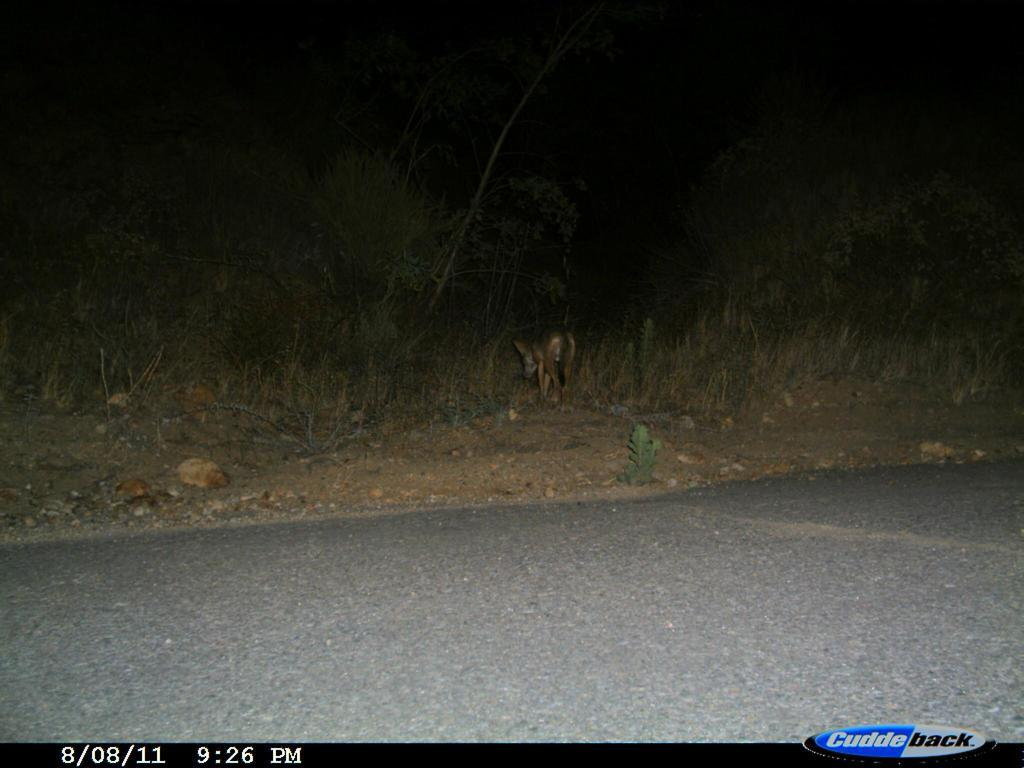coyote: (502, 309, 596, 417)
